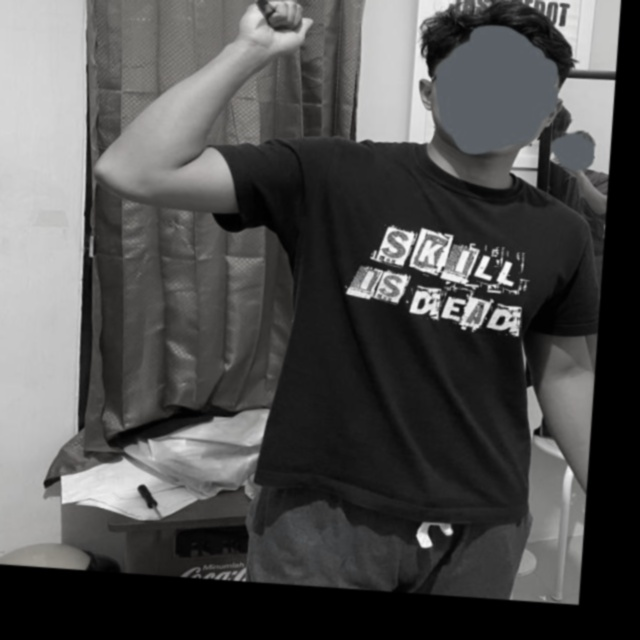Sharp-Object: (253, 0, 277, 22)
